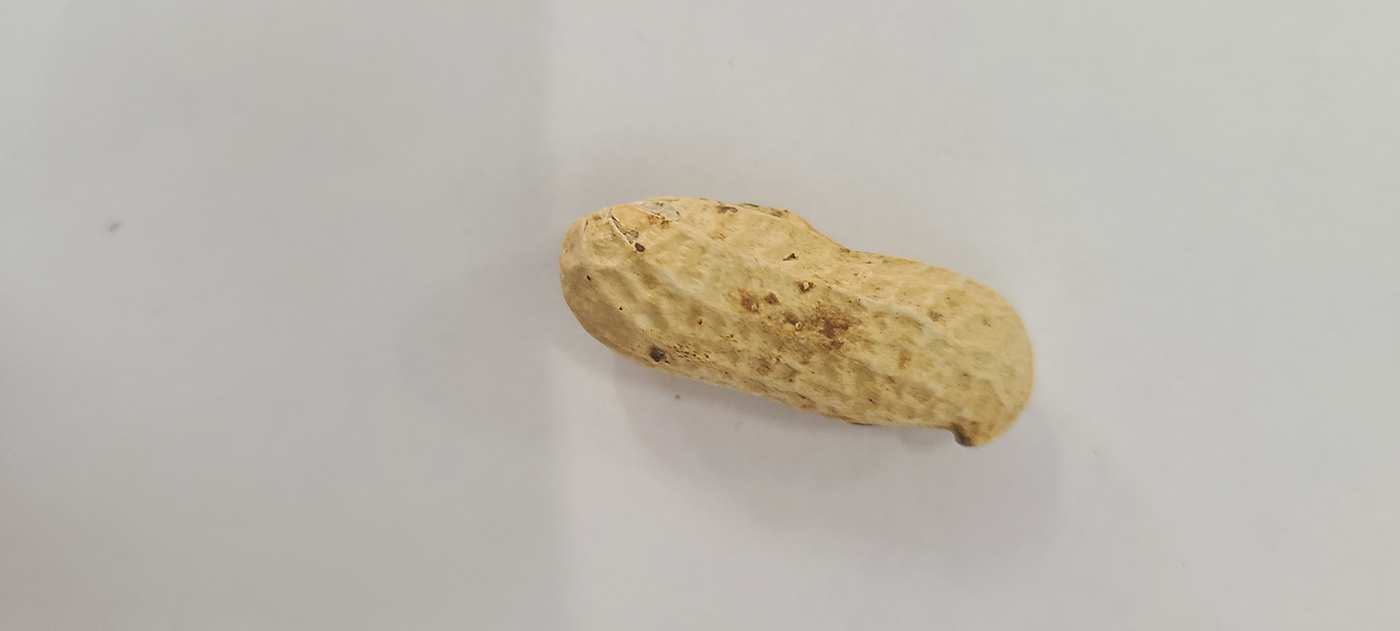h: (559, 191, 1035, 446)
